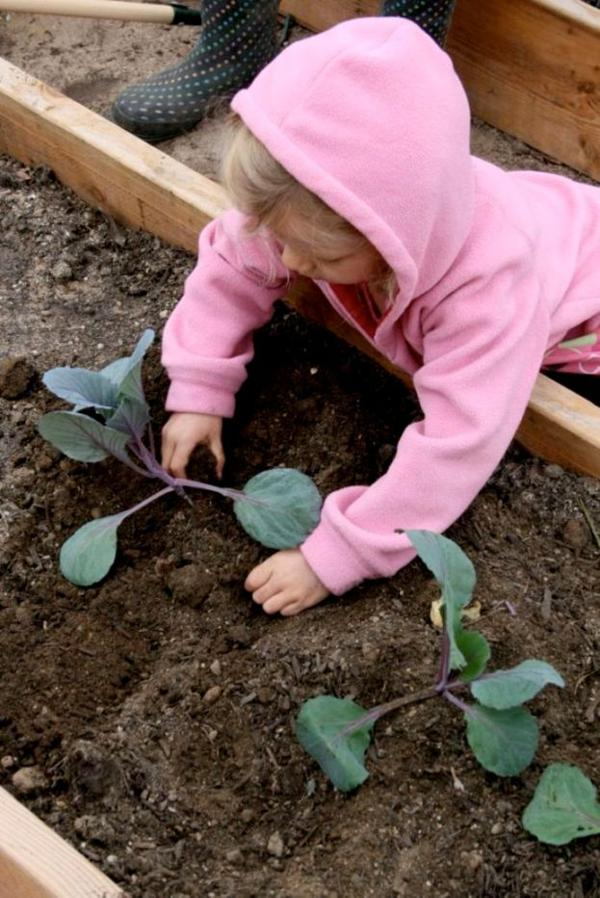person: (160, 13, 598, 613)
